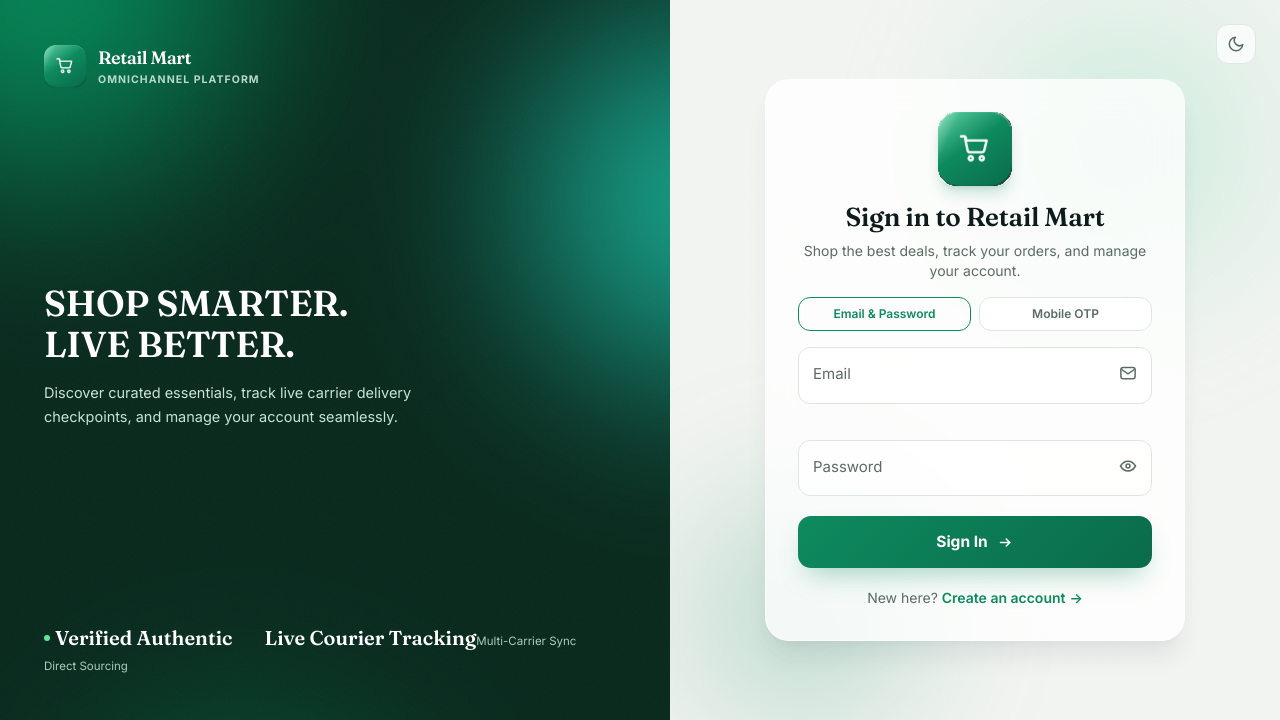
Test: Simplified Authentication UI & RBAC Flow › 8. Invalid credentials display error alert
This screenshot has width=1280, height=720.
Type "invalid@example.com" into the field labelled "Email" at [975, 375], box [798,347,1152,404]
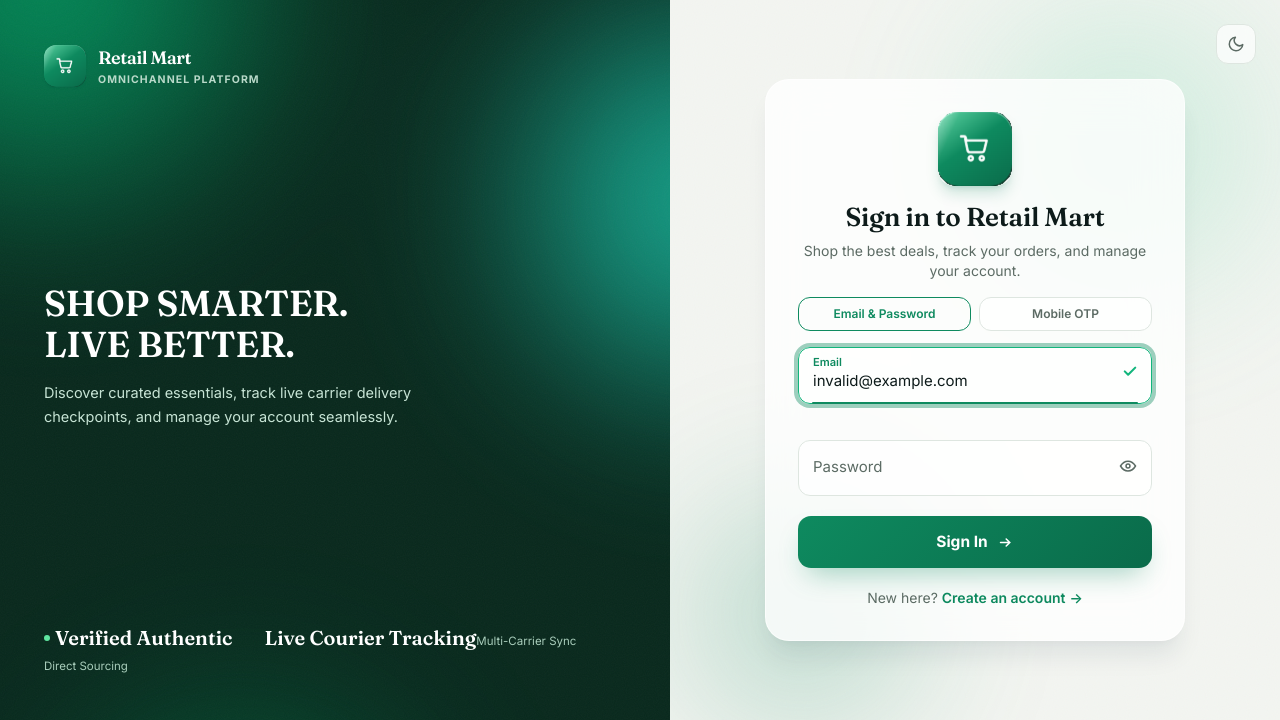
Type "wrongpassword" into the password field labelled "Password" at [975, 468], box [798,440,1152,496]
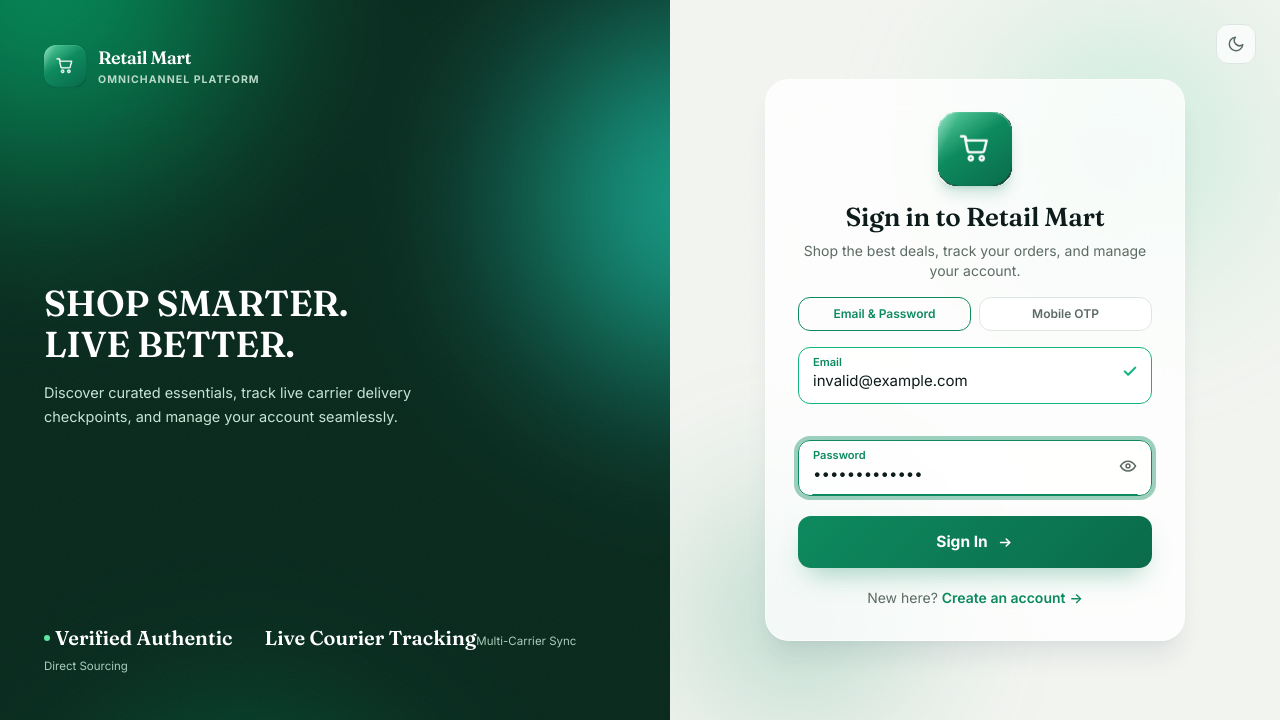
Click the button "Sign In" at [975, 542], box [798,516,1152,568]
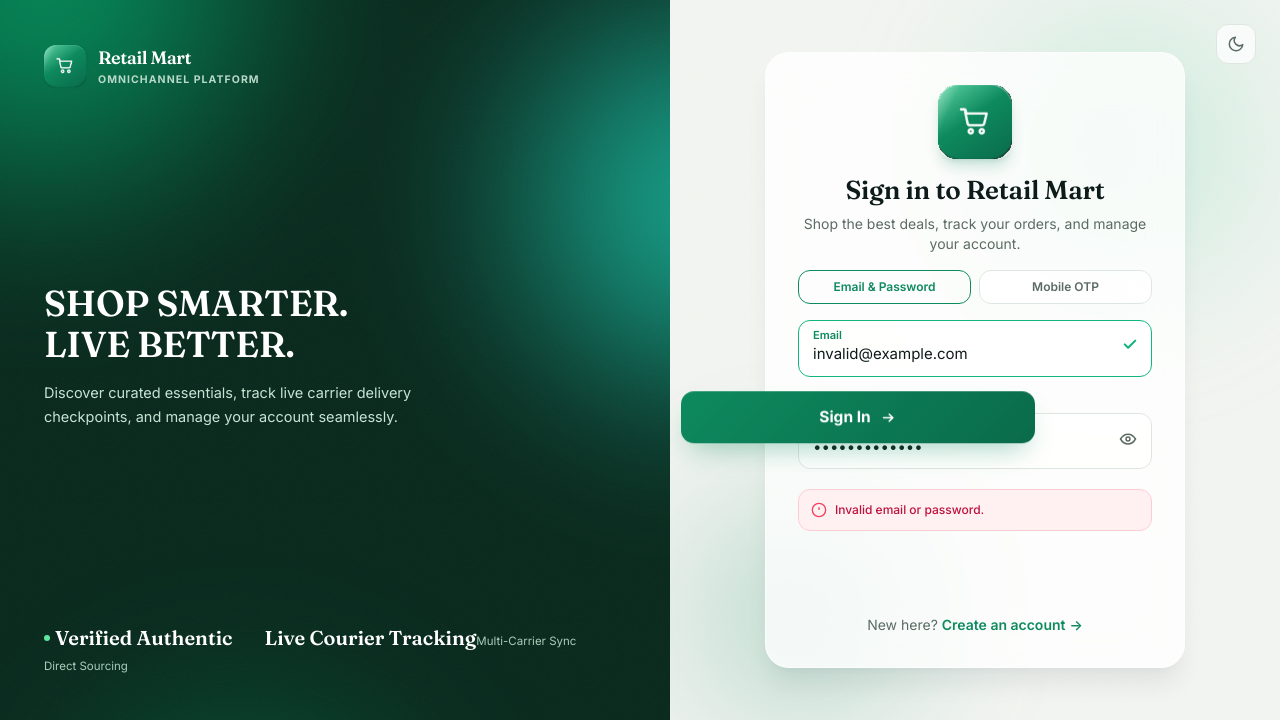
Expected: the message shows "Invalid email or password", [835,502,984,517]
